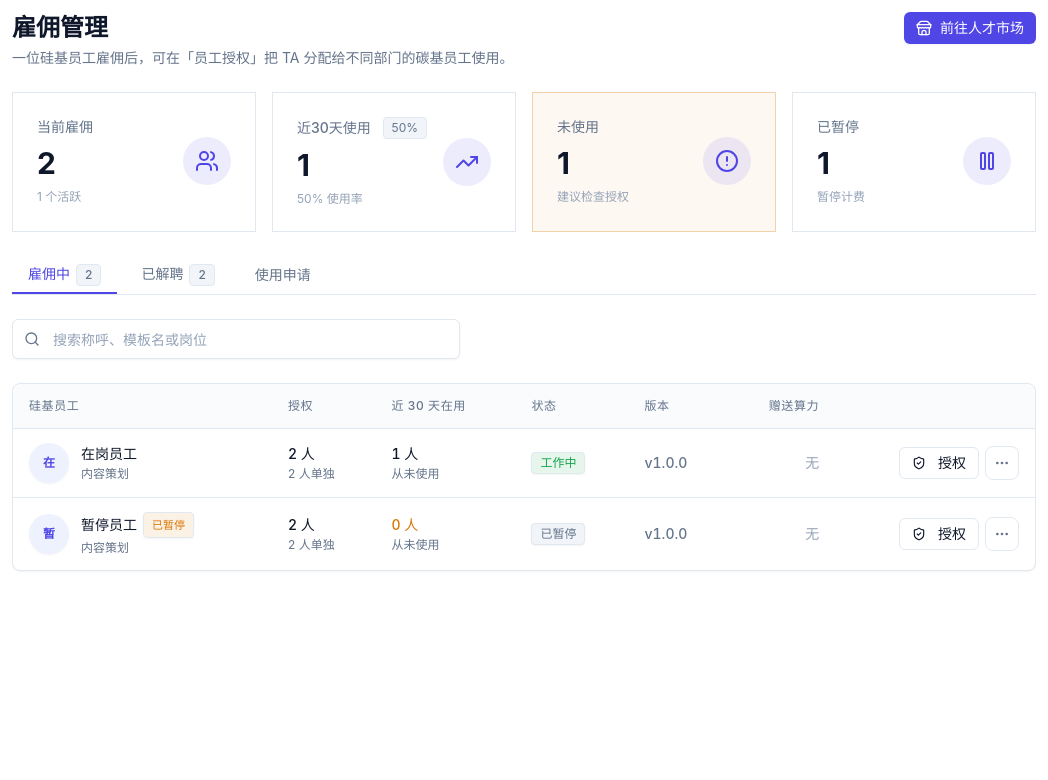
Test: 雇佣管理分类 › 搜索在当前分类内生效，清空搜索不会把历史记录混回来
Type "  终止  " into the field named "搜索雇佣关系" at coordinates (236, 339), box [12, 319, 460, 359]
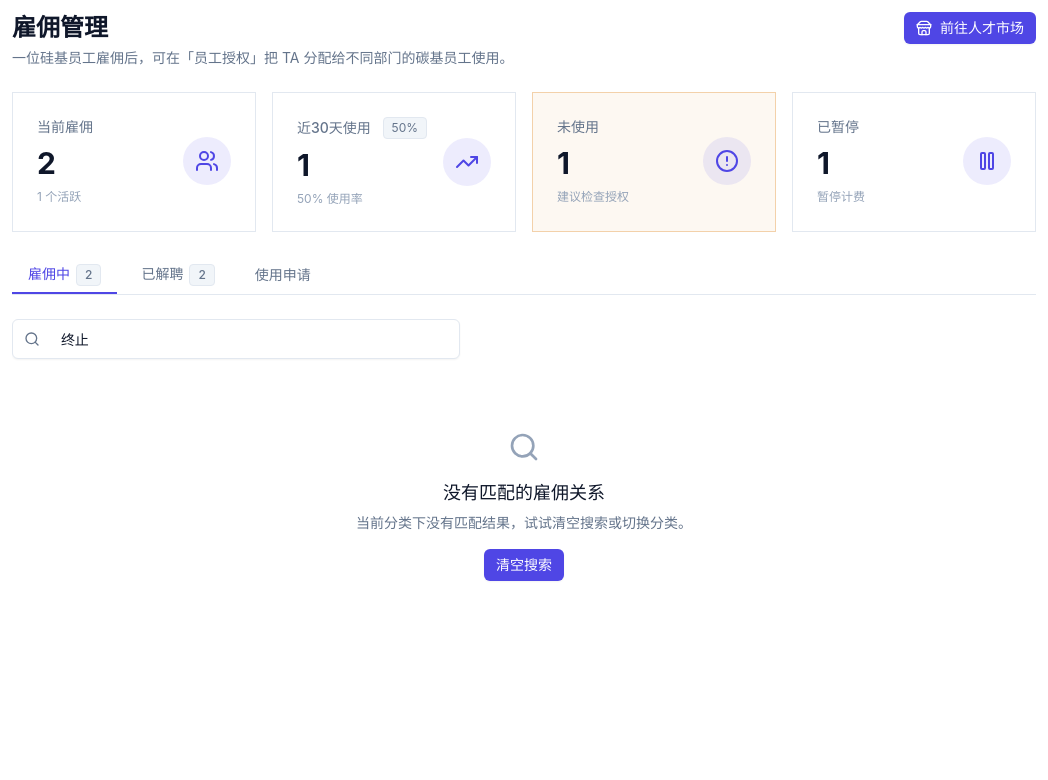
Expected: the button "雇佣中 2" is shown, [12, 256, 117, 294]
Expected: the text "没有匹配的雇佣关系" is shown, [443, 482, 605, 503]
Click the button "已解聘 2" at coordinates (178, 275), box [125, 256, 231, 294]
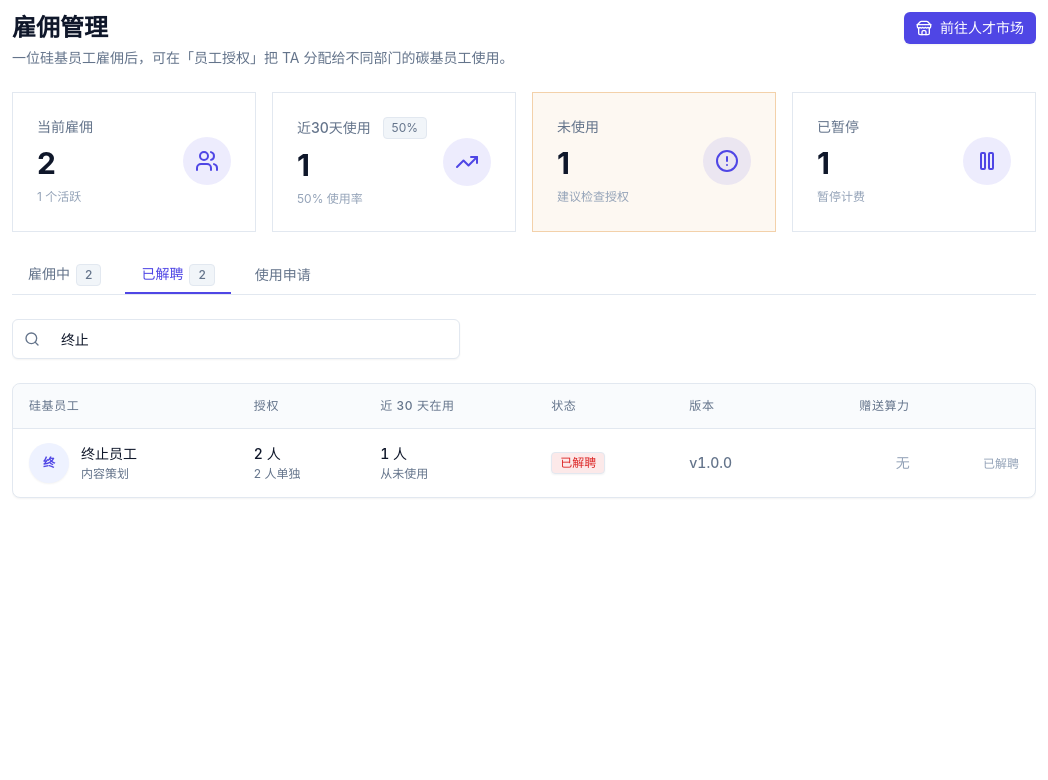
Expected: the link "终止员工" is shown, [81, 444, 137, 464]
Click the button "雇佣中 2" at coordinates (65, 275), box [12, 256, 117, 294]
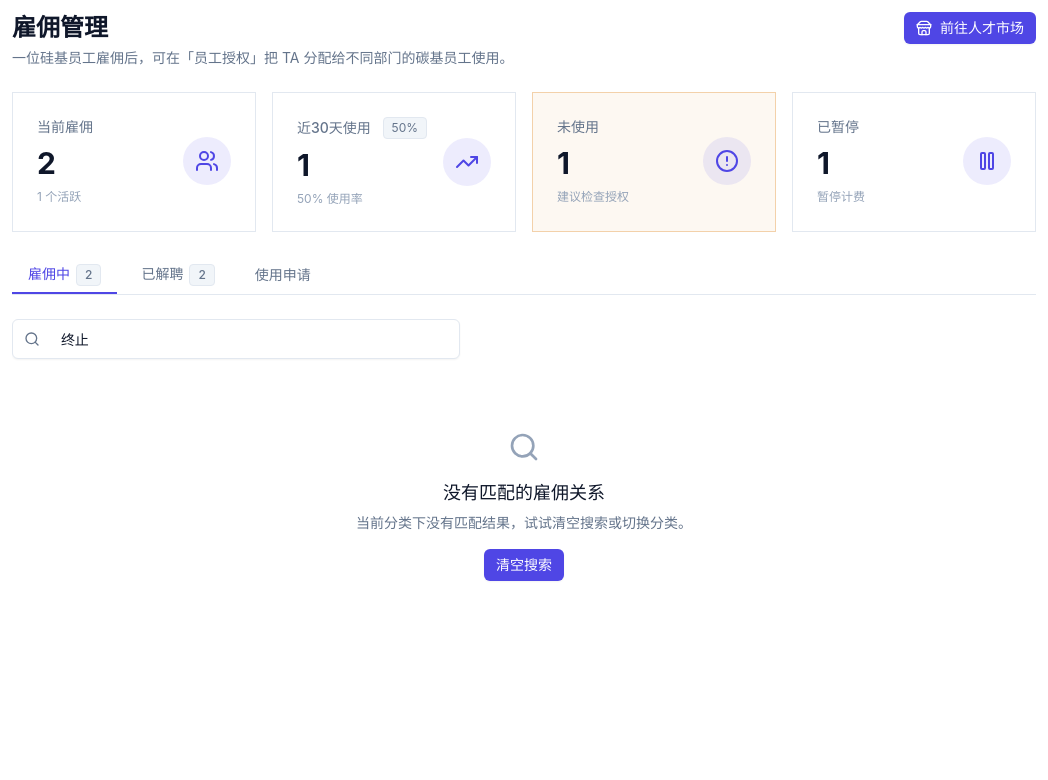
Click the button "清空搜索" at coordinates (524, 565), box [484, 549, 564, 581]
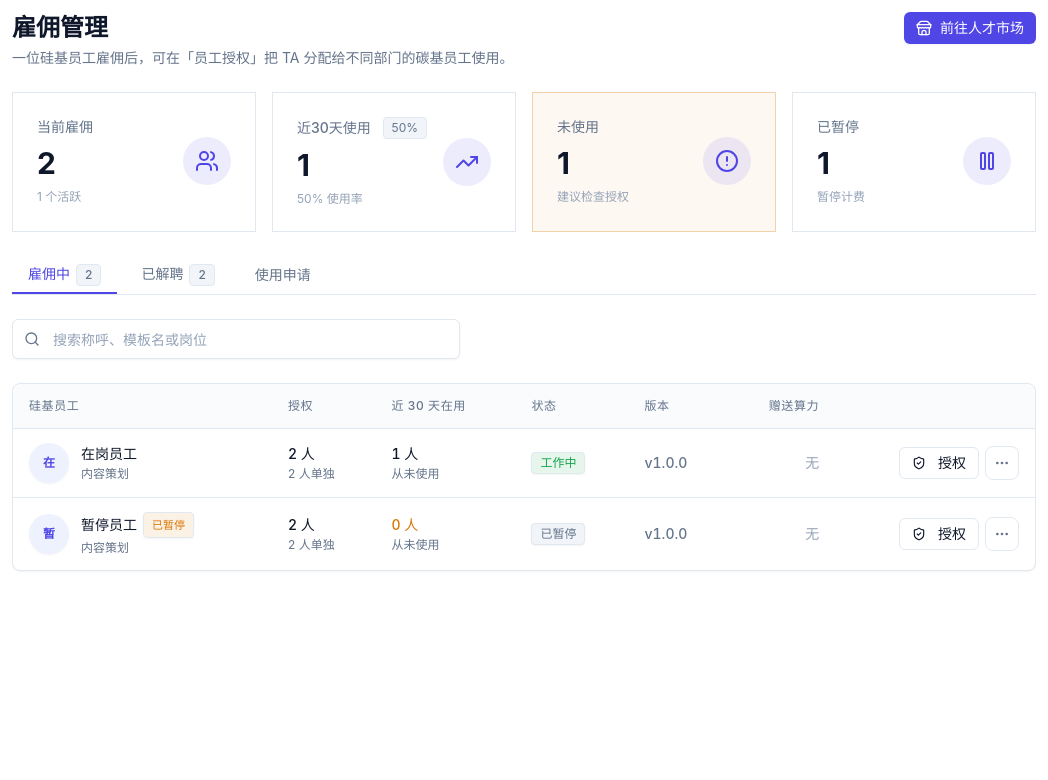
Expected: the link "终止员工" is not shown
Expected: the number of links "在岗员工" is 2, [81, 444, 137, 464]; [81, 515, 137, 535]
